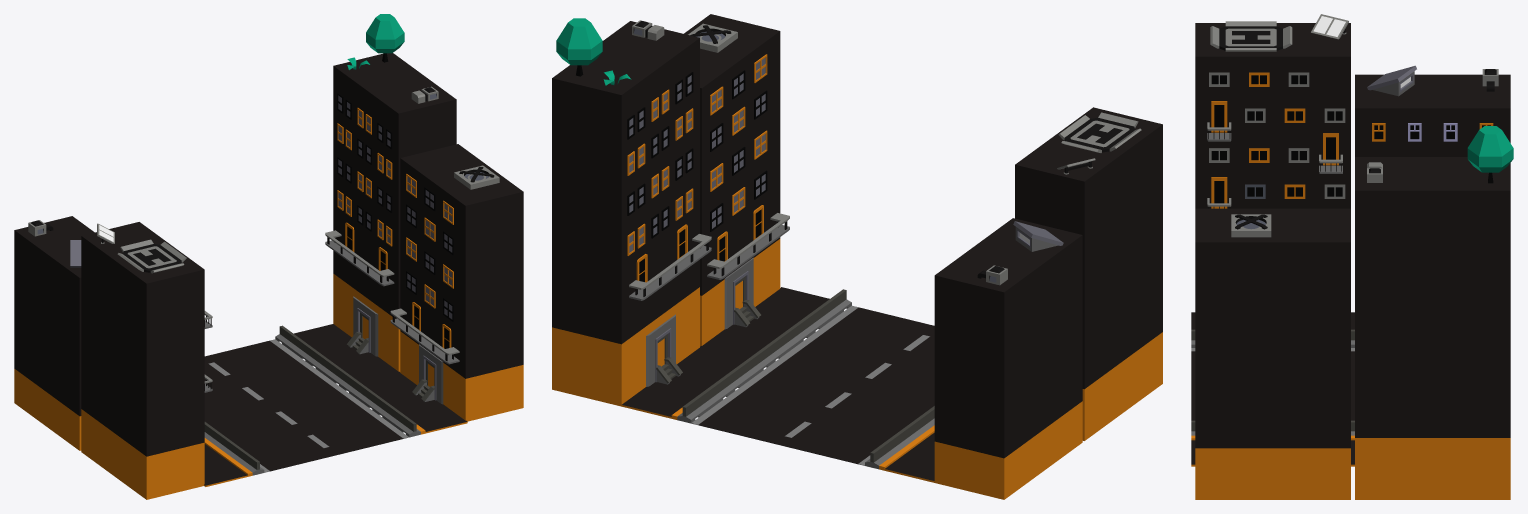
3 renders of one model, left to right at view 1: azimuth 30°, elevation 25°; view 2: azimuth 150°, elevation 25°; view 3: azimuth 270°, elevation 25°, orthographic. The views are drawn at different scales.
Visible parts, largest first — view 1: block (×4), roof_flatCenter (×2), roof_flatEdge (×2), detail_roadBlockSmall (×5), balcony_basic (×2), doorway_doorGlass (×2), pad_helicopter, leafs_cone, detail_ventLarge; view 2: block (×4), roof_flatCenter (×2), roof_flatEdge (×2), detail_roadBlockSmall (×5), balcony_basic (×2), doorway_doorGlass (×2), pad_helicopter, leafs_cone, roof_windowLarge, detail_ventLarge; view 3: block (×4), pad_helicopter, leafs_cone, window_small (×3), detail_ventLarge, roof_windowLarge, balcony_basic (×2), solar_large, roof_flatCenter.
Part boxes in pixels (x1,y1,x2,y2): block (×4): [14, 53, 523, 499]; roof_flatCenter (×2): [204, 339, 409, 471]; roof_flatEdge (×2): [204, 324, 467, 486]; detail_roadBlockSmall (×5): [219, 325, 420, 475]; balcony_basic (×2): [325, 230, 459, 364]; doorway_doorGlass (×2): [353, 296, 443, 404]; pad_helicopter: [117, 239, 186, 273]; leafs_cone: [366, 14, 404, 53]; detail_ventLarge: [454, 165, 499, 189]; block (×4): [552, 14, 1162, 499]; roof_flatCenter (×2): [691, 305, 934, 464]; roof_flatEdge (×2): [621, 287, 934, 482]; detail_roadBlockSmall (×5): [677, 289, 918, 469]; balcony_basic (×2): [629, 213, 789, 300]; doorway_doorGlass (×2): [646, 257, 753, 386]; pad_helicopter: [1058, 112, 1141, 152]; leafs_cone: [556, 18, 602, 65]; roof_windowLarge: [1013, 221, 1063, 251]; detail_ventLarge: [688, 23, 737, 52]; block (×4): [1195, 23, 1510, 499]; pad_helicopter: [1210, 21, 1292, 51]; leafs_cone: [1467, 126, 1513, 172]; window_small (×3): [1211, 101, 1338, 208]; detail_ventLarge: [1231, 214, 1271, 237]; roof_windowLarge: [1367, 65, 1416, 96]; balcony_basic (×2): [1207, 122, 1342, 173]; solar_large: [1311, 14, 1348, 39]; roof_flatCenter: [1191, 351, 1354, 420].
Size of the model in its own units: 130 by 100 by 80.77.
